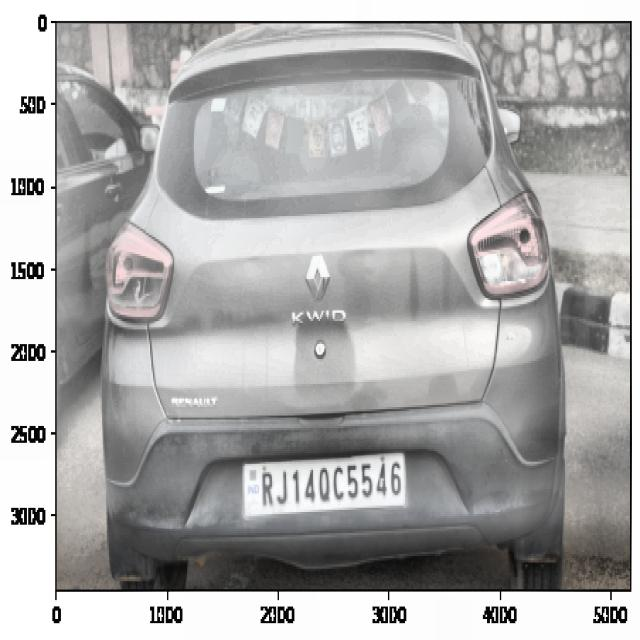license_plate: (256, 454, 408, 513)
